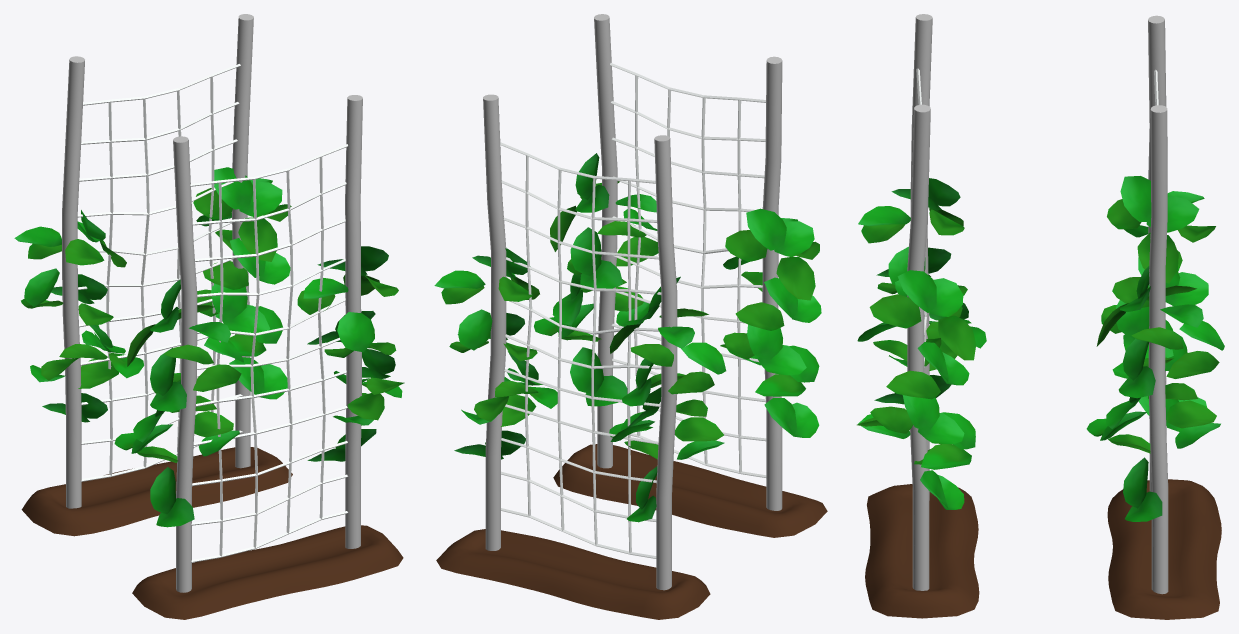
File: Cucumber2.fbx
3 views of the same model, side by side, from view 1: azimuth 30°, elevation 25°; view 2: azimuth 150°, elevation 25°; view 3: azimuth 270°, elevation 25° (orthographic). The views are drawn at different scales.
Visible parts, largest first — view 1: 2; view 2: 2; view 3: 2.
Boxes of the visible parts, box(x1,y1,x2,y2) form: 2: box(14, 14, 404, 619); 2: box(434, 14, 827, 619); 2: box(857, 14, 1224, 619).
Size of the model in its own units: 299 by 470 by 320.
